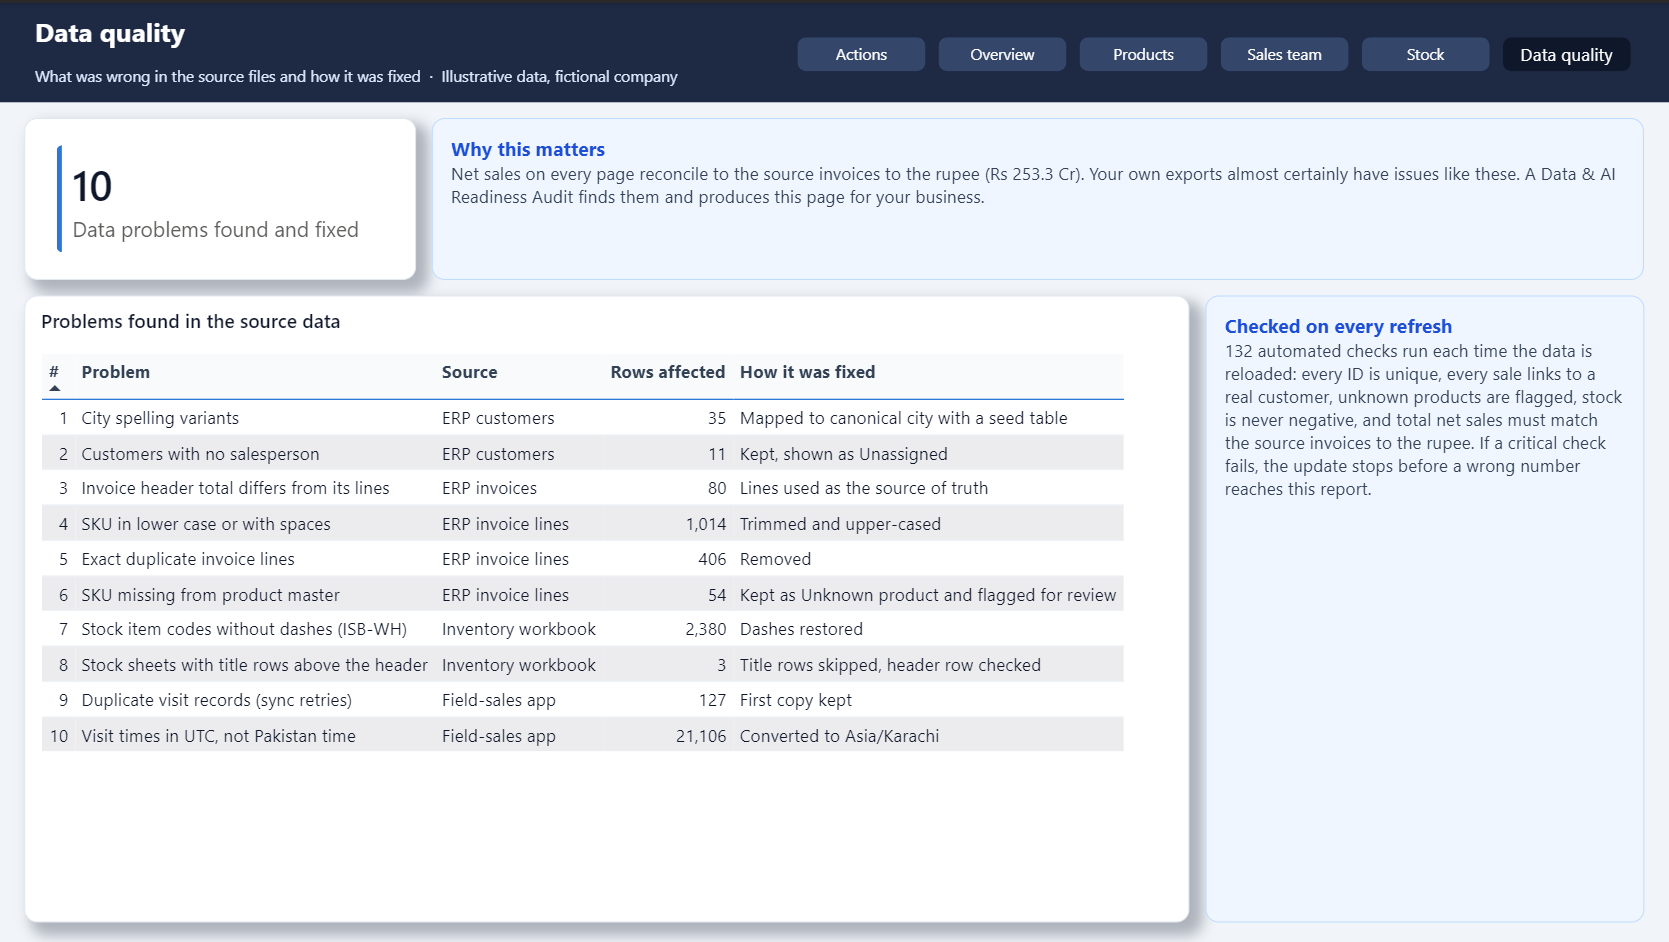

This screenshot's page, from the dashboard's own definition file:
{"tool":"powerbi","page":{"name":"Data quality","canvas":[1280,720],"ordinal":5},"visuals":[{"type":"textbox","box":[0,0,1280,76],"z":1000},{"type":"textbox","box":[16,0,580,46],"z":2000},{"type":"textbox","box":[16,38,580,36],"z":3000},{"type":"pageNavigator","box":[600,18,664,42],"z":4000},{"type":"cardVisual","fields":{"Data":["mart_data_quality.Issues Found"]},"box":[20,88,300,124],"z":5000},{"type":"textbox","box":[332,88,928,124],"z":6000},{"type":"tableEx","title":"Problems found in the source data","fields":{"Values":["mart_data_quality.sort_order","mart_data_quality.issue","mart_data_quality.source_system","mart_data_quality.affected_count","mart_data_quality.handling"]},"box":[20,224,892,480],"z":7000},{"type":"textbox","box":[924,224,336,480],"z":8000}]}

Visuals, with their boxes in screenshot pixels (x1, y1, x2, y2), scaled from the page's 1280x720 canvas onto the 1669x942 screenshot:
textbox: BBox(0, 0, 1668, 99)
textbox: BBox(21, 0, 777, 60)
textbox: BBox(21, 50, 777, 97)
pageNavigator: BBox(782, 24, 1648, 78)
cardVisual - mart_data_quality.Issues Found: BBox(26, 115, 417, 277)
textbox: BBox(433, 115, 1643, 277)
"Problems found in the source data" tableEx: BBox(26, 293, 1189, 921)
textbox: BBox(1205, 293, 1643, 921)
